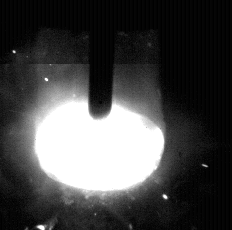arame: (89, 0, 114, 120)
poca: (33, 0, 166, 230)
